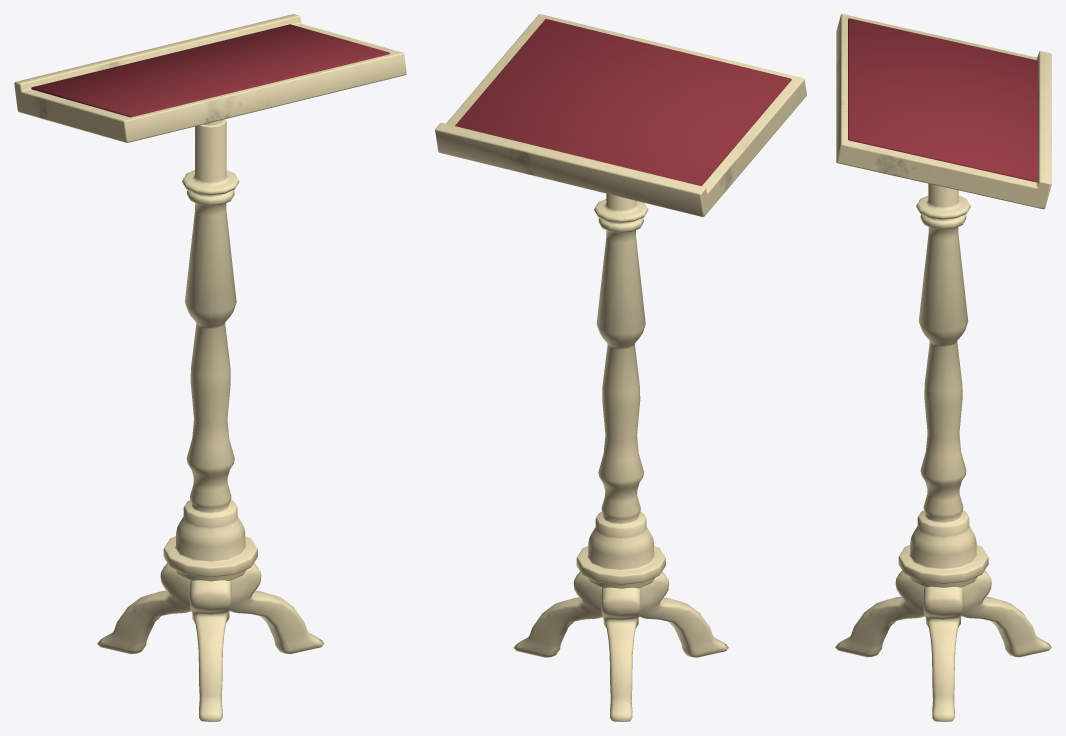
Rendered from Lectern_B.fbx.
3 renders of one model, left to right at view 1: azimuth 30°, elevation 25°; view 2: azimuth 150°, elevation 25°; view 3: azimuth 270°, elevation 25°, orthographic. The views are drawn at different scales.
Parts seen in each view (by area): view 1: Lectern_B; view 2: Lectern_B; view 3: Lectern_B.
Part boxes in pixels (x1,y1,x2,y2): Lectern_B: [14, 14, 406, 721]; Lectern_B: [435, 14, 806, 721]; Lectern_B: [835, 14, 1051, 721].
Bounding box in the file's own units: 0.587 × 1.24 × 0.4118.
